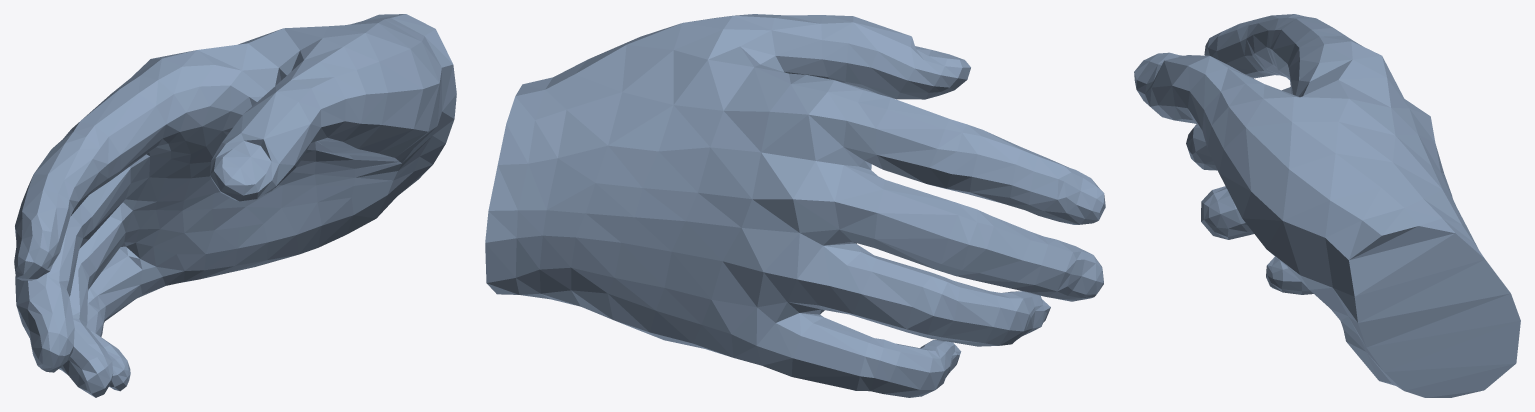
File: frame_00006_0.obj
3 renders of one model, left to right at view 1: azimuth 30°, elevation 25°; view 2: azimuth 150°, elevation 25°; view 3: azimuth 270°, elevation 25°, orthographic.
Size of the model in its own units: 0.1679 by 0.0947 by 0.1103.
